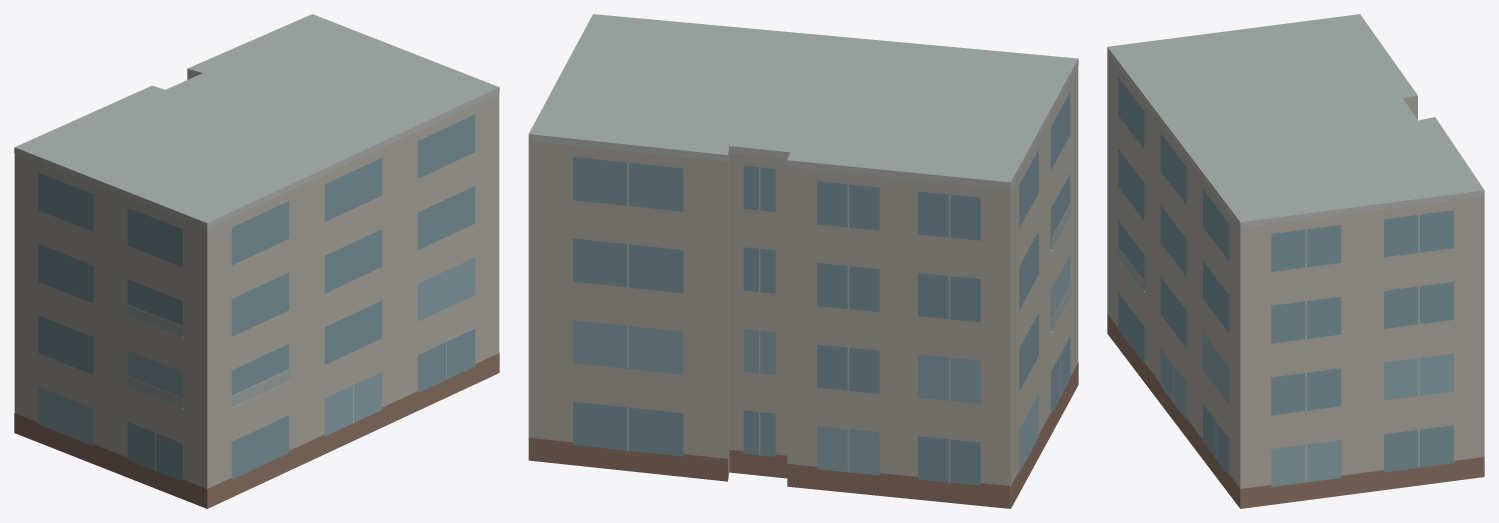
Rendered from survey-upis-32994041.glb.
3 renders of one model, left to right at view 1: azimuth 30°, elevation 25°; view 2: azimuth 150°, elevation 25°; view 3: azimuth 270°, elevation 25°, orthographic. The views are drawn at different scales.
Parts seen in each view (by area): view 1: survey-upis-32994041.tmp; view 2: survey-upis-32994041.tmp; view 3: survey-upis-32994041.tmp.
Part boxes in pixels (left/top/right/bottom): survey-upis-32994041.tmp: left=14, top=14, right=499, bottom=508; survey-upis-32994041.tmp: left=528, top=14, right=1078, bottom=508; survey-upis-32994041.tmp: left=1107, top=14, right=1484, bottom=508.
Bounding box in the file's own units: 17.77 × 11.4 × 13.61.
